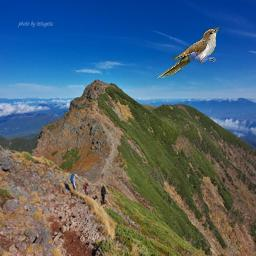Cuckoo: (157, 27, 221, 78)
